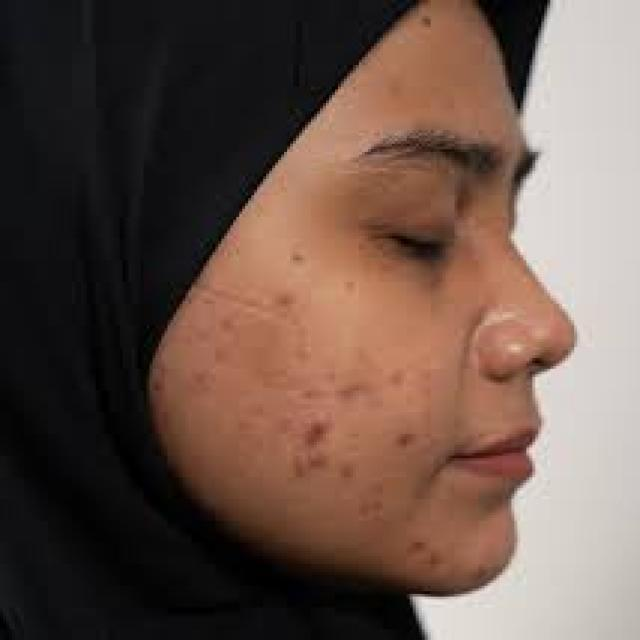dry: (290, 410, 340, 459), (193, 336, 239, 388), (260, 293, 310, 334), (412, 78, 480, 108), (329, 372, 407, 398), (284, 247, 327, 268)
